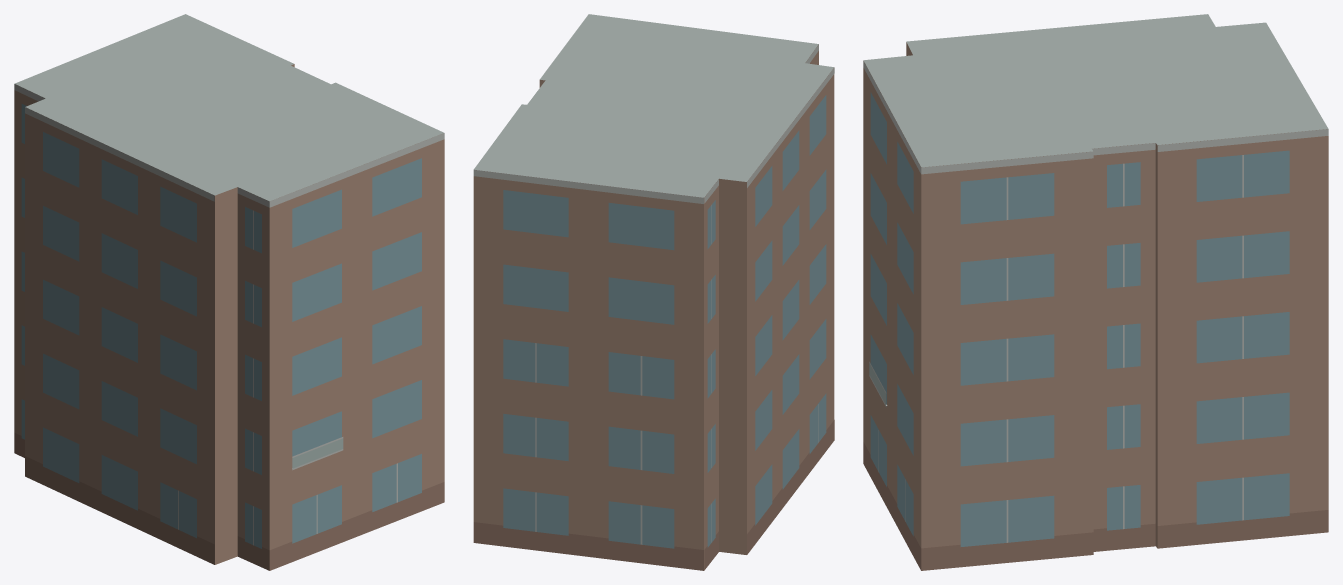
Rendered from survey-upis-32493589.glb.
The picture shows the model from 3 angles, left to right: view 1: azimuth 30°, elevation 25°; view 2: azimuth 150°, elevation 25°; view 3: azimuth 270°, elevation 25°; orthographic projection. The views are drawn at different scales.
Visible parts, largest first — view 1: survey-upis-32493589.tmp; view 2: survey-upis-32493589.tmp; view 3: survey-upis-32493589.tmp.
Part boxes in pixels (x1,y1,x2,y2): survey-upis-32493589.tmp: (14, 14, 444, 570); survey-upis-32493589.tmp: (473, 14, 834, 570); survey-upis-32493589.tmp: (863, 14, 1328, 570).
Bounding box in the file's own units: 11.59 × 14.2 × 14.85.
